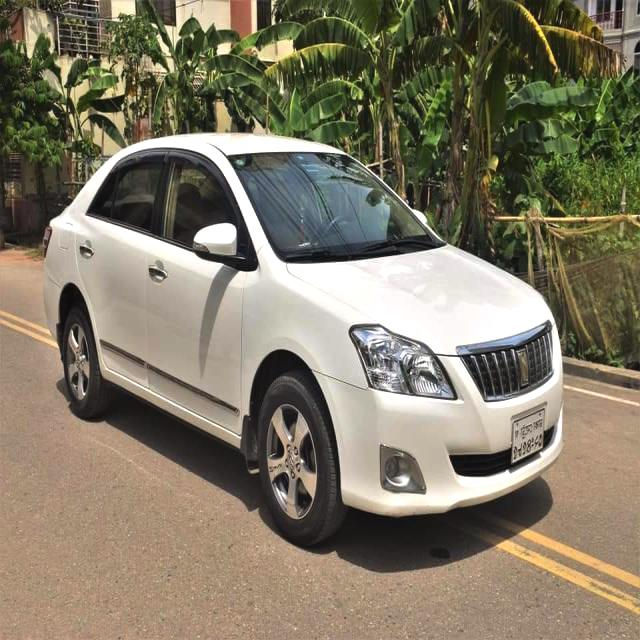white: (43, 128, 567, 488)
